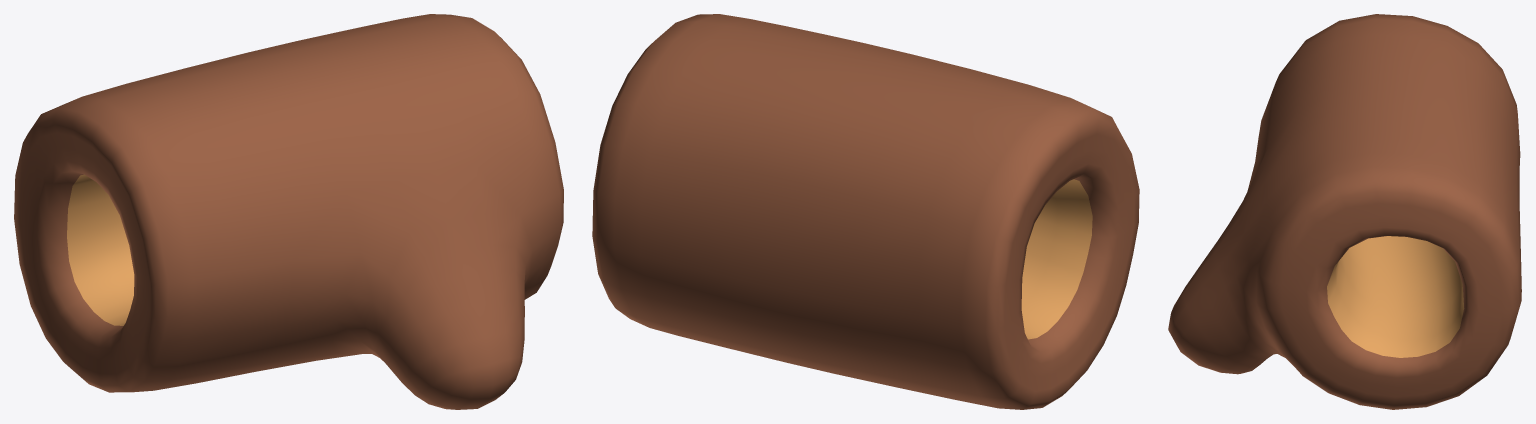
Rendered from Log_03.fbx.
3 views of the same model, side by side, from view 1: azimuth 30°, elevation 25°; view 2: azimuth 150°, elevation 25°; view 3: azimuth 270°, elevation 25° (orthographic). The views are drawn at different scales.
Parts seen in each view (by area): view 1: Log_03_LOD0; view 2: Log_03_LOD0; view 3: Log_03_LOD0.
Boxes of the visible parts, box(x1,y1,x2,y2) form: Log_03_LOD0: box(14, 14, 563, 409); Log_03_LOD0: box(592, 14, 1139, 409); Log_03_LOD0: box(1168, 14, 1521, 409).
Size of what is drawn, in the model's own units: 381 by 256 by 328.
